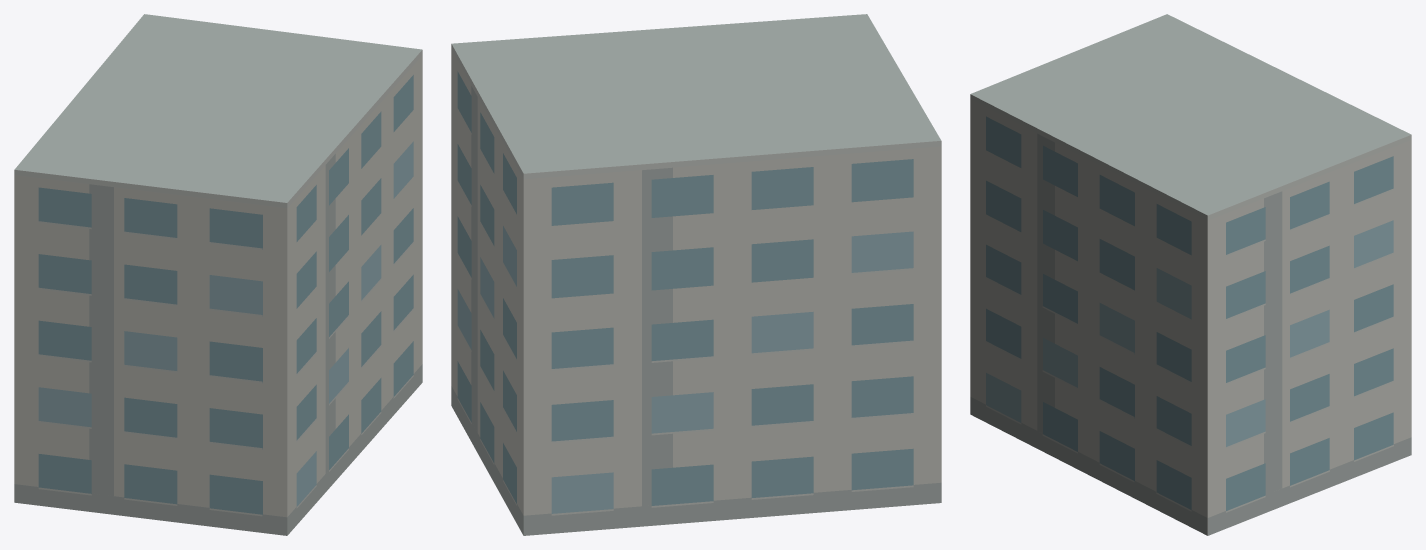
File: survey-upis-32782103.glb
3 views of the same model, side by side, from view 1: azimuth 30°, elevation 25°; view 2: azimuth 150°, elevation 25°; view 3: azimuth 270°, elevation 25° (orthographic). The views are drawn at different scales.
Visible parts, largest first — view 1: survey-upis-32782103.tmp; view 2: survey-upis-32782103.tmp; view 3: survey-upis-32782103.tmp.
Part boxes in pixels (box(x1,y1,x2,y2)): survey-upis-32782103.tmp: box(14, 14, 422, 535); survey-upis-32782103.tmp: box(451, 14, 941, 535); survey-upis-32782103.tmp: box(970, 14, 1411, 535).
Bounding box in the file's own units: 20.59 × 15.25 × 19.06.
